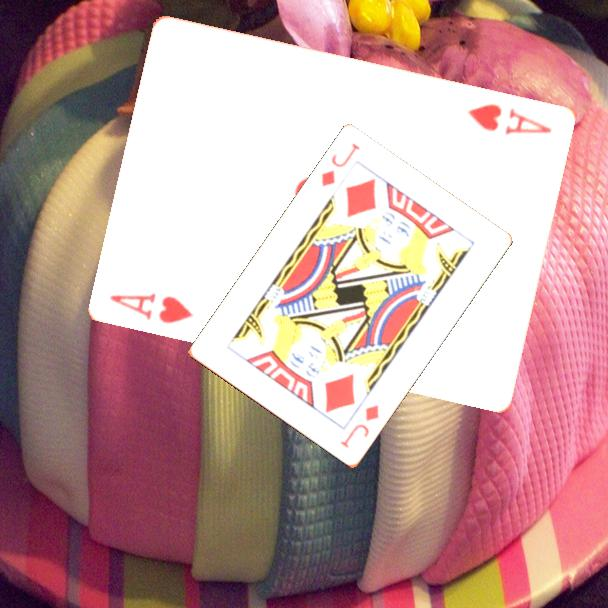d11: (317, 140, 363, 190), (337, 402, 382, 451)
h01: (464, 100, 555, 138), (107, 289, 197, 326)
